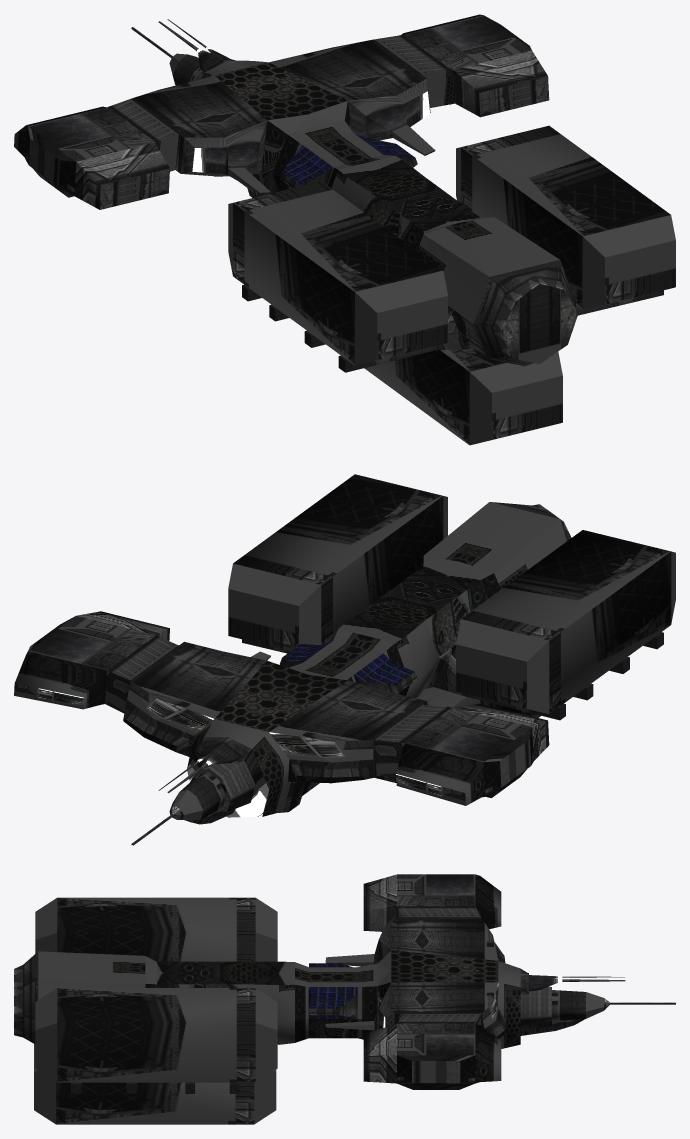
File: ts2_modG.fbx
3 renders of one model, top to bottom at view 1: azimuth 30°, elevation 25°; view 2: azimuth 150°, elevation 25°; view 3: azimuth 270°, elevation 25°, orthographic. The views are drawn at different scales.
Parts seen in each view (by area): view 1: ts2_modG; view 2: ts2_modG; view 3: ts2_modG.
Part boxes in pixels (x1,y1,x2,y2): ts2_modG: (14, 14, 675, 445); ts2_modG: (14, 474, 675, 845); ts2_modG: (14, 874, 675, 1124).
Size of the model in its own units: 68.46 by 25.02 by 102.
1 material, 1 textured.
